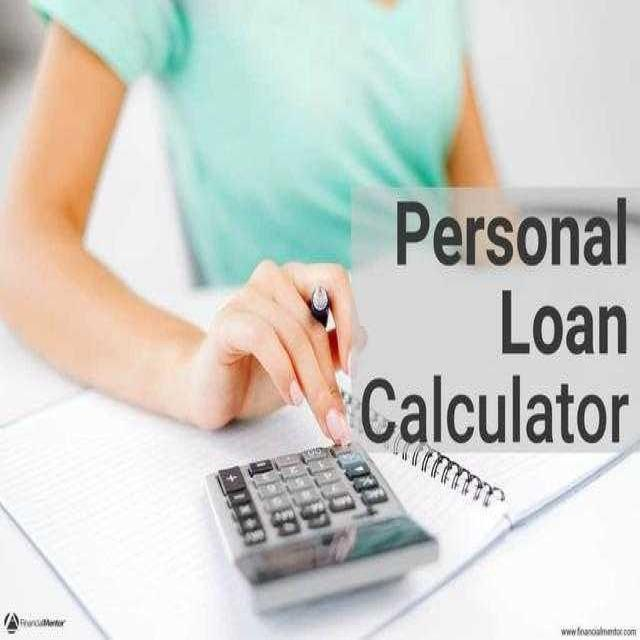Calculator: (206, 443, 438, 614)
